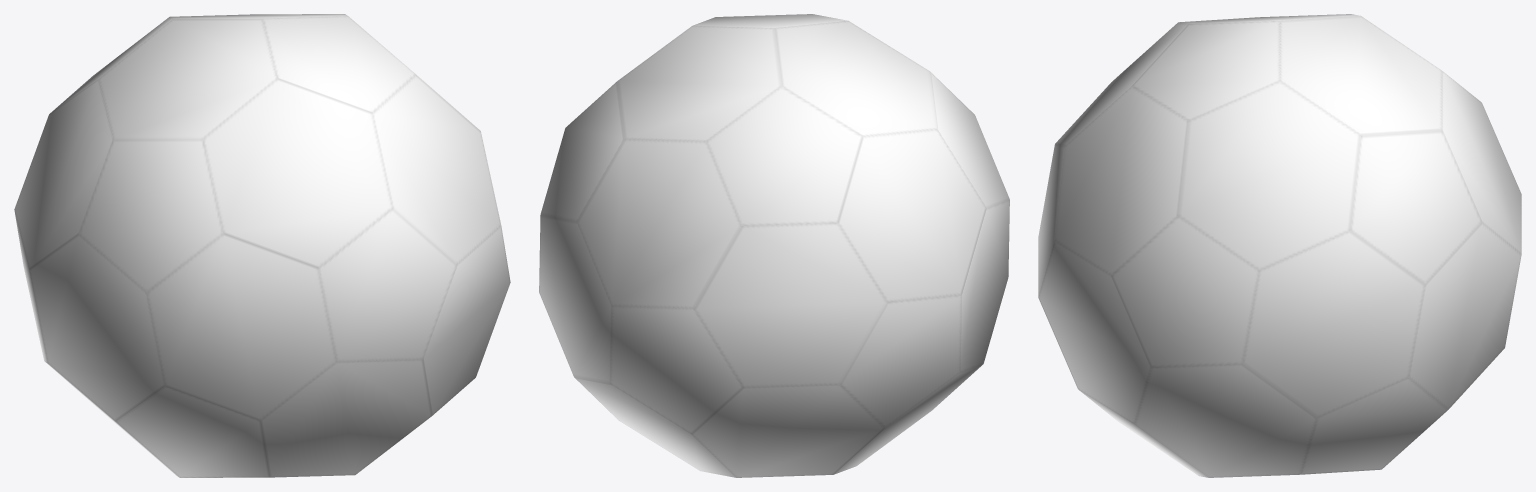
Rendered from Barrier.obj.
3 views of the same model, side by side, from view 1: azimuth 30°, elevation 25°; view 2: azimuth 150°, elevation 25°; view 3: azimuth 270°, elevation 25° (orthographic). The views are drawn at different scales.
Parts seen in each view (by area): view 1: Barrier; view 2: Barrier; view 3: Barrier.
Boxes of the visible parts, x1,y1,x2,y2 form: Barrier: [14, 14, 510, 477]; Barrier: [539, 14, 1009, 477]; Barrier: [1038, 14, 1521, 477].
Size of the model in its own units: 1.97 by 2 by 1.95.
